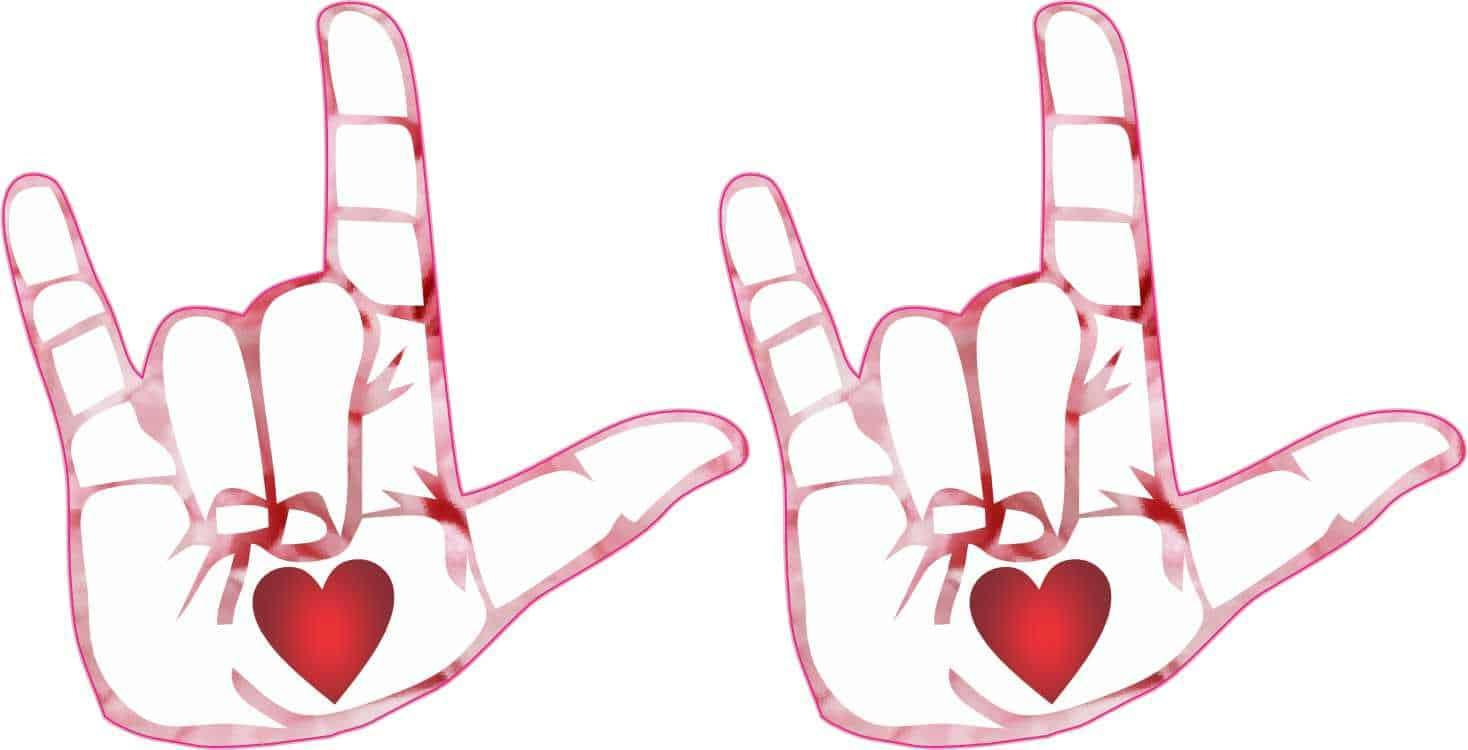Love_you: (2, 0, 753, 750), (722, 2, 1468, 750)
